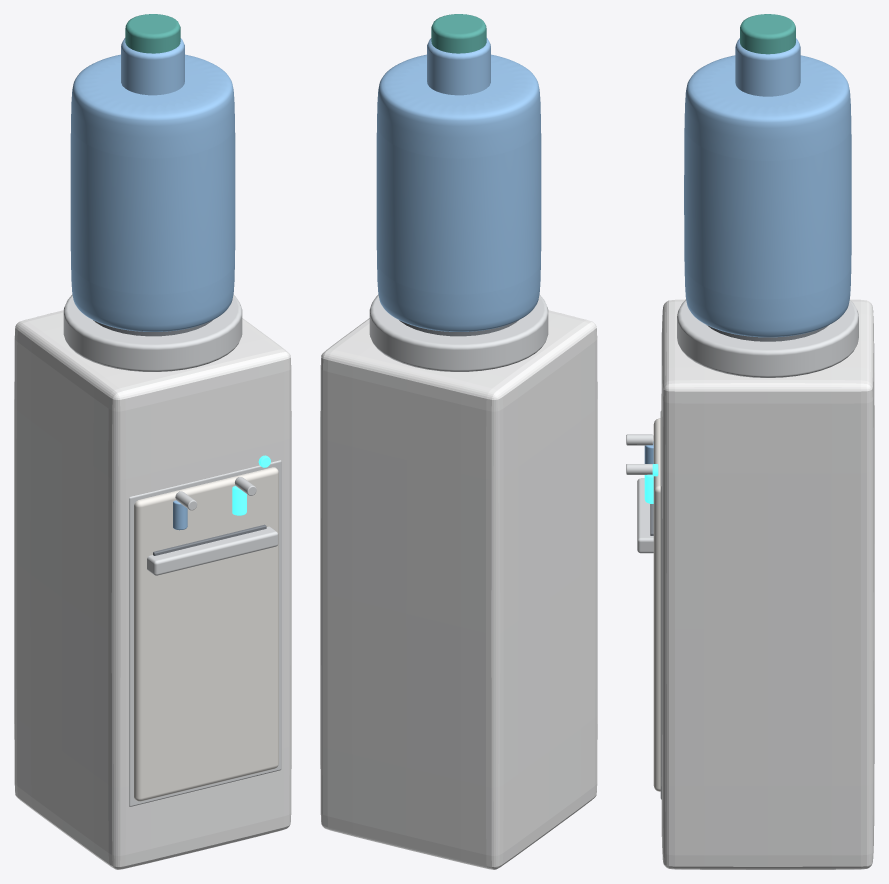
Rendered from water_dispenser.glb.
3 views of the same model, side by side, from view 1: azimuth 30°, elevation 25°; view 2: azimuth 150°, elevation 25°; view 3: azimuth 270°, elevation 25° (orthographic).
Visible parts, largest first — view 1: DispenserBody, DispenserBottle, DispenserPanel, DispenserCollar, DispenserPanelTrim, DispenserBottleNeck, DispenserDripTray, DispenserBottleCap, DispenserDripBar_0; view 2: DispenserBody, DispenserBottle, DispenserCollar, DispenserBottleNeck, DispenserBottleCap; view 3: DispenserBody, DispenserBottle, DispenserCollar, DispenserBottleNeck, DispenserPanel, DispenserBottleCap, DispenserDripTray, DispenserPanelTrim, DispenserCollarInner.
Boxes of the visible parts, left/top/right/bottom form: DispenserBody: left=14, top=310, right=291, bottom=869; DispenserBottle: left=70, top=54, right=235, bottom=331; DispenserPanel: left=134, top=467, right=278, bottom=801; DispenserCollar: left=63, top=294, right=242, bottom=371; DispenserPanelTrim: left=129, top=460, right=281, bottom=806; DispenserBottleNeck: left=121, top=38, right=184, bottom=95; DispenserDripTray: left=147, top=526, right=278, bottom=575; DispenserBottleCap: left=125, top=14, right=180, bottom=53; DispenserDripBar_0: left=153, top=524, right=266, bottom=555; DispenserBody: left=320, top=310, right=597, bottom=869; DispenserBottle: left=376, top=54, right=541, bottom=331; DispenserCollar: left=369, top=294, right=548, bottom=371; DispenserBottleNeck: left=427, top=38, right=490, bottom=95; DispenserBottleCap: left=431, top=14, right=486, bottom=53; DispenserBody: left=661, top=299, right=874, bottom=869; DispenserBottle: left=684, top=55, right=851, bottom=337; DispenserCollar: left=677, top=299, right=858, bottom=377; DispenserBottleNeck: left=735, top=38, right=800, bottom=96; DispenserPanel: left=653, top=418, right=660, bottom=791; DispenserBottleCap: left=740, top=14, right=795, bottom=54; DispenserDripTray: left=637, top=478, right=653, bottom=553; DispenserPanelTrim: left=660, top=411, right=661, bottom=799; DispenserCollarInner: left=707, top=325, right=828, bottom=341.
Bounding box in the file's own units: 0.3797 × 1.58 × 0.4419.
